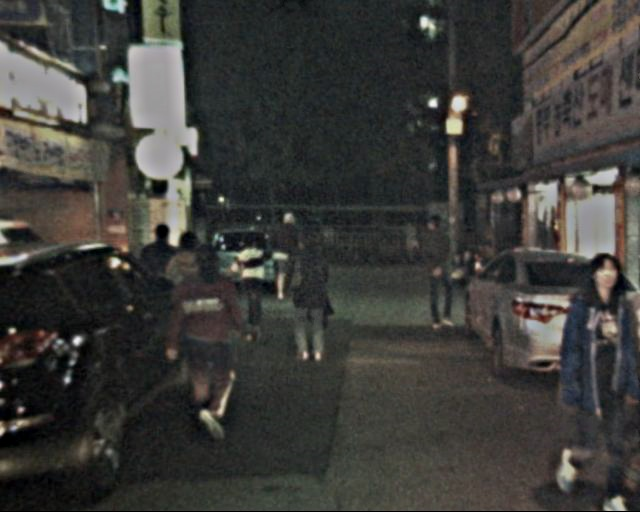person: (549, 245, 630, 506), (169, 243, 248, 433), (280, 231, 334, 371), (163, 230, 213, 355), (136, 220, 187, 342), (422, 212, 468, 339), (234, 231, 278, 335), (267, 206, 309, 309)
